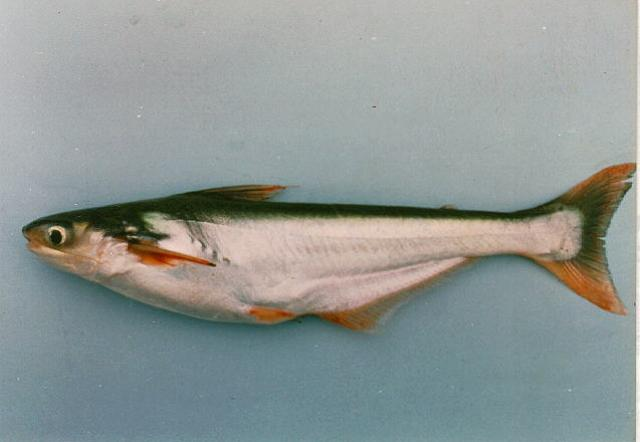Mulut: (20, 214, 82, 274)
Sirip Anal: (306, 252, 494, 346)
Sirip Dada: (134, 231, 222, 284)
Sirip Ekor: (520, 156, 640, 326)
Sirip Perut: (237, 290, 309, 340)
Sirip Punggung: (206, 179, 290, 221)
